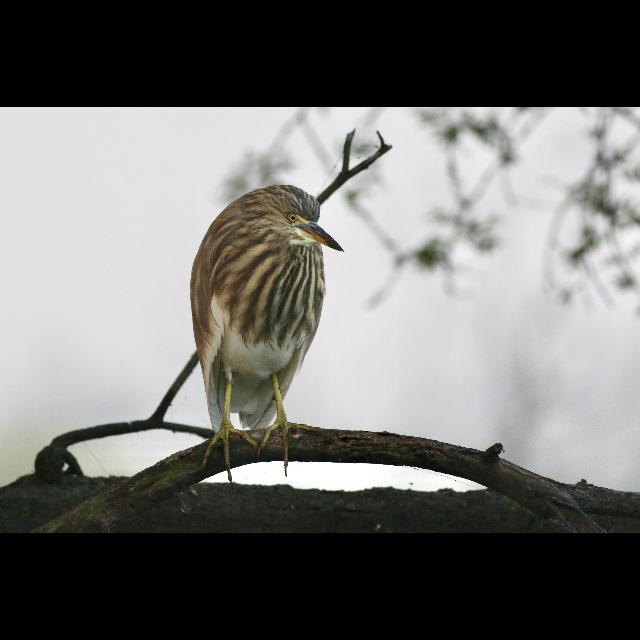heron: (181, 177, 343, 466)
